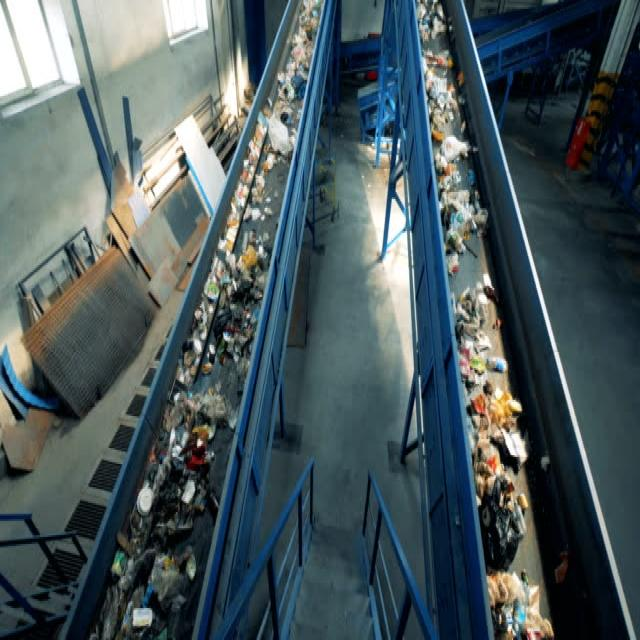plastic: (154, 174, 276, 486), (446, 197, 538, 544)
